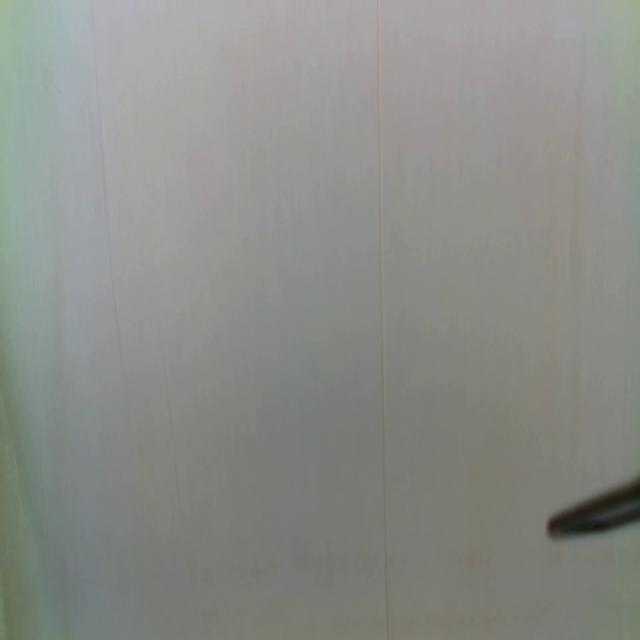crease: (92, 0, 130, 380), (375, 2, 393, 638)
